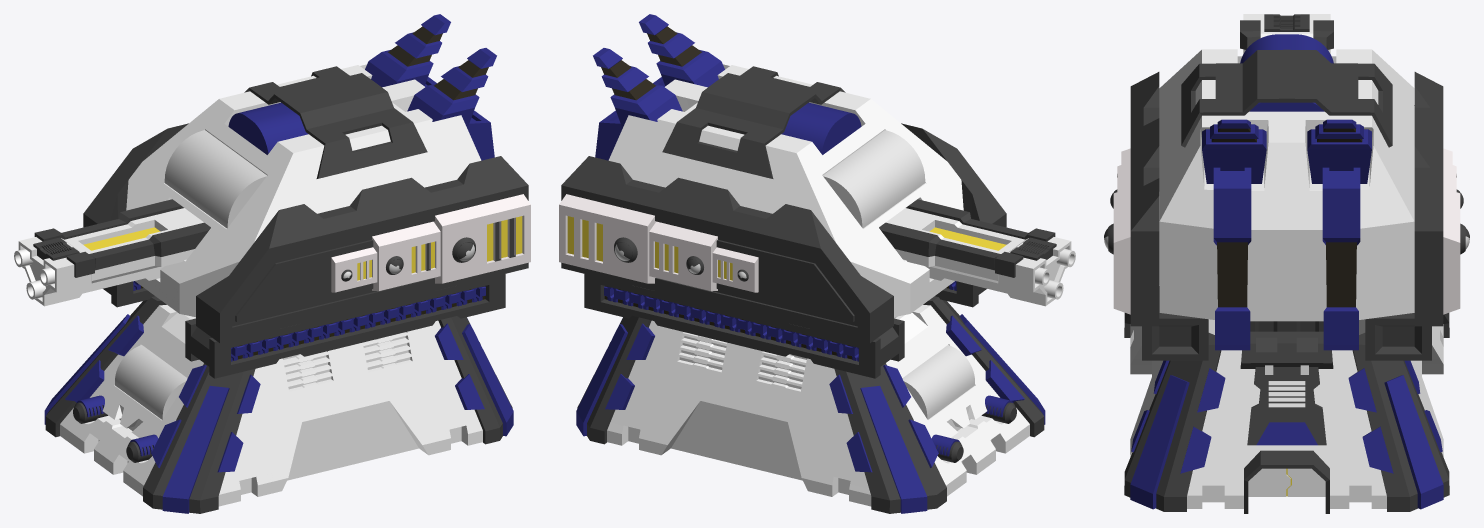
File: machineGun0.fbx
3 renders of one model, left to right at view 1: azimuth 30°, elevation 25°; view 2: azimuth 150°, elevation 25°; view 3: azimuth 270°, elevation 25°, orthographic. The views are drawn at different scales.
Parts seen in each view (by area): view 1: Base, SidePlate, Head, OuterPlate, PillarGadgets, BasePillars, TopCover, BackWings, GunBarrel, Vision, GunAccessory, Magazine (+4 smaller); view 2: Base, SidePlate, Head, OuterPlate, PillarGadgets, BasePillars, TopCover, BackWings, GunBarrel, Vision, GunAccessory, Magazine (+4 smaller); view 3: Head, SidePlate, BackWings, Base, TopCover, PillarGadgets, BasePillars, BackAccessoryPlate, OuterPlate, BackHangar, TopCapsule, GunAccessory (+4 smaller).
Boxes of the visible parts, left/top/right/bottom form: Base: left=60, top=305, right=482, bottom=506; SidePlate: left=83, top=123, right=528, bottom=378; Head: left=126, top=64, right=481, bottom=317; OuterPlate: left=331, top=194, right=530, bottom=292; PillarGadgets: left=44, top=314, right=513, bottom=513; BasePillars: left=45, top=296, right=512, bottom=513; TopCover: left=244, top=66, right=427, bottom=178; BackWings: left=365, top=14, right=496, bottom=160; GunBarrel: left=14, top=208, right=203, bottom=306; Vision: left=164, top=130, right=266, bottom=228; GunAccessory: left=33, top=199, right=210, bottom=277; Magazine: left=133, top=281, right=485, bottom=361; Base: left=607, top=305, right=1029, bottom=506; SidePlate: left=561, top=123, right=1006, bottom=378; Head: left=608, top=64, right=963, bottom=317; OuterPlate: left=559, top=194, right=758, bottom=292; PillarGadgets: left=576, top=314, right=1045, bottom=513; BasePillars: left=577, top=296, right=1044, bottom=513; TopCover: left=662, top=66, right=845, bottom=178; BackWings: left=593, top=14, right=724, bottom=160; GunBarrel: left=886, top=208, right=1075, bottom=306; Vision: left=823, top=130, right=925, bottom=228; GunAccessory: left=879, top=199, right=1056, bottom=277; Magazine: left=604, top=281, right=956, bottom=361; Head: left=1159, top=49, right=1414, bottom=321; SidePlate: left=1130, top=72, right=1443, bottom=360; BackWings: left=1202, top=119, right=1371, bottom=350; Base: left=1130, top=319, right=1443, bottom=508; TopCover: left=1181, top=49, right=1392, bottom=147; PillarGadgets: left=1130, top=360, right=1443, bottom=509; BasePillars: left=1124, top=313, right=1449, bottom=511; BackAccessoryPlate: left=1240, top=331, right=1333, bottom=445; OuterPlate: left=1113, top=148, right=1460, bottom=314; BackHangar: left=1244, top=450, right=1329, bottom=513; TopCapsule: left=1240, top=34, right=1333, bottom=111; GunAccessory: left=1240, top=14, right=1333, bottom=49.
Bounding box in the file's own units: 400 × 302 × 252.
